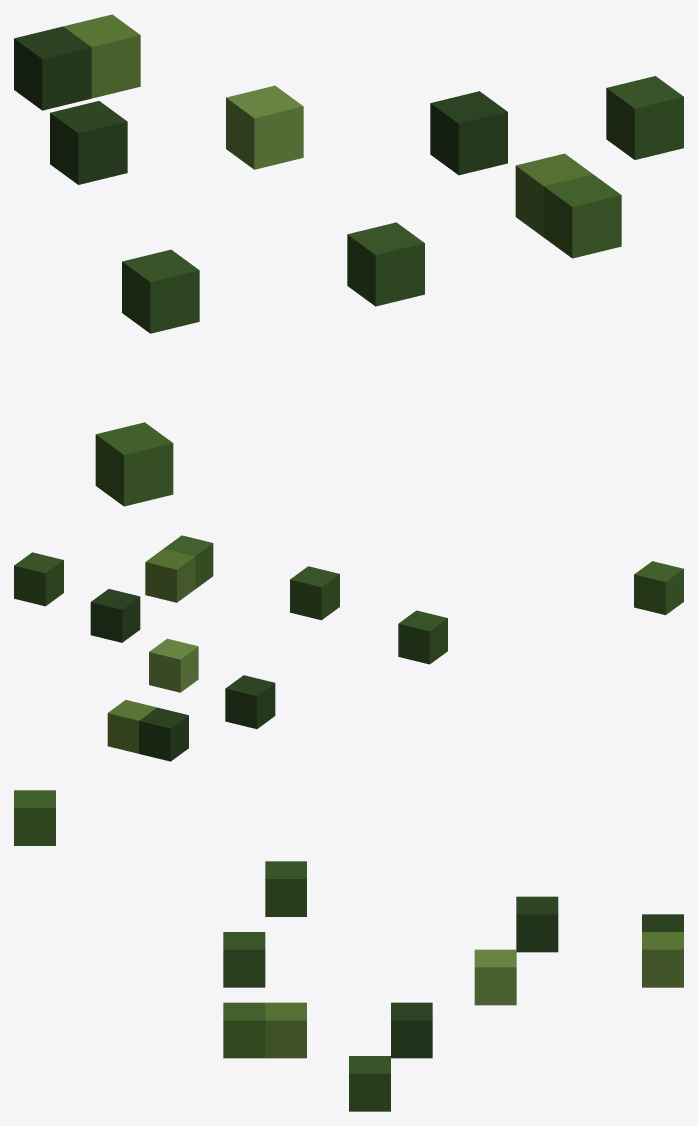
The model's file is float_green.glb.
3 views of the same model, one above another, from view 1: azimuth 30°, elevation 25°; view 2: azimuth 150°, elevation 25°; view 3: azimuth 270°, elevation 25° (orthographic). The views are drawn at different scales.
Parts seen in each view (by area): view 1: float_green; view 2: float_green; view 3: float_green.
Boxes of the visible parts, x1,y1,x2,y2 form: float_green: (14,14,683,506); float_green: (14,535,683,761); float_green: (14,790,683,1111).
Size of the model in its own units: 1 by 0.0625 by 1.
